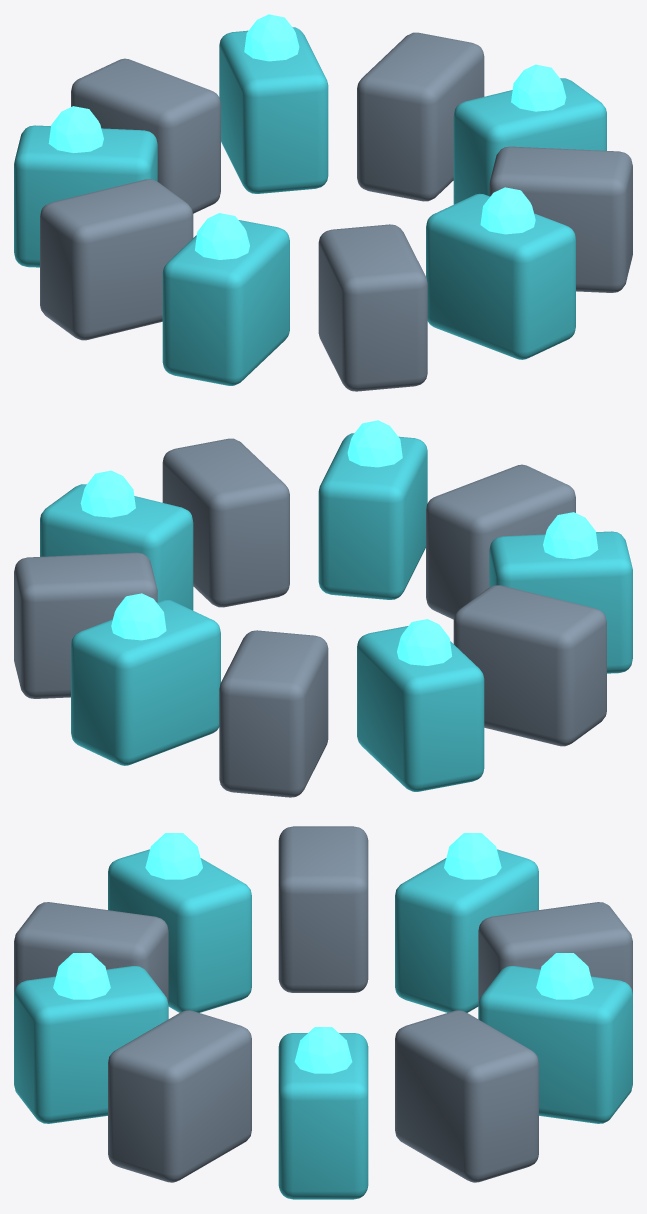
Rendered from bracelet_v6.glb.
3 views of the same model, one above another, from view 1: azimuth 30°, elevation 25°; view 2: azimuth 150°, elevation 25°; view 3: azimuth 270°, elevation 25° (orthographic). The views are drawn at different scales.
Visible parts, largest first — view 1: SEGMENT_ACCENT.004, SEGMENT_PRIMARY.002, SEGMENT_PRIMARY.003, SEGMENT_ACCENT.003, SEGMENT_PRIMARY, SEGMENT_ACCENT.001, SEGMENT_PRIMARY.004, SEGMENT_PRIMARY.001, SEGMENT_ACCENT.002, SEGMENT_ACCENT, SEGMENT_GEM_EMISSIVE.001, SEGMENT_GEM_EMISSIVE (+3 smaller); view 2: SEGMENT_ACCENT.001, SEGMENT_PRIMARY.002, SEGMENT_PRIMARY.001, SEGMENT_ACCENT.002, SEGMENT_PRIMARY.004, SEGMENT_ACCENT.004, SEGMENT_PRIMARY, SEGMENT_PRIMARY.003, SEGMENT_ACCENT.003, SEGMENT_ACCENT, SEGMENT_GEM_EMISSIVE.004, SEGMENT_GEM_EMISSIVE (+3 smaller); view 3: SEGMENT_PRIMARY, SEGMENT_PRIMARY.004, SEGMENT_ACCENT.001, SEGMENT_ACCENT.004, SEGMENT_PRIMARY.002, SEGMENT_ACCENT.002, SEGMENT_ACCENT.003, SEGMENT_ACCENT, SEGMENT_PRIMARY.001, SEGMENT_PRIMARY.003, SEGMENT_GEM_EMISSIVE.002, SEGMENT_GEM_EMISSIVE.003 (+3 smaller).
Boxes of the visible parts, x1=… form: SEGMENT_ACCENT.004: x1=426, y1=193, x2=575, y2=359; SEGMENT_PRIMARY.002: x1=40, y1=179, x2=193, y2=340; SEGMENT_PRIMARY.003: x1=318, y1=224, x2=427, y2=391; SEGMENT_ACCENT.003: x1=162, y1=220, x2=289, y2=385; SEGMENT_PRIMARY: x1=357, y1=32, x2=484, y2=201; SEGMENT_ACCENT.001: x1=219, y1=27, x2=328, y2=193; SEGMENT_PRIMARY.004: x1=489, y1=146, x2=632, y2=292; SEGMENT_PRIMARY.001: x1=71, y1=58, x2=220, y2=213; SEGMENT_ACCENT.002: x1=14, y1=125, x2=157, y2=267; SEGMENT_ACCENT: x1=453, y1=78, x2=606, y2=204; SEGMENT_GEM_EMISSIVE.001: x1=244, y1=14, x2=299, y2=61; SEGMENT_GEM_EMISSIVE: x1=511, y1=64, x2=566, y2=111; SEGMENT_ACCENT.001: x1=71, y1=599, x2=220, y2=765; SEGMENT_PRIMARY.002: x1=453, y1=585, x2=606, y2=746; SEGMENT_PRIMARY.001: x1=219, y1=630, x2=328, y2=797; SEGMENT_ACCENT.002: x1=357, y1=626, x2=484, y2=791; SEGMENT_PRIMARY.004: x1=162, y1=438, x2=289, y2=607; SEGMENT_ACCENT.004: x1=318, y1=433, x2=427, y2=599; SEGMENT_PRIMARY: x1=14, y1=552, x2=157, y2=698; SEGMENT_PRIMARY.003: x1=426, y1=464, x2=575, y2=619; SEGMENT_ACCENT.003: x1=489, y1=531, x2=632, y2=673; SEGMENT_ACCENT: x1=40, y1=484, x2=193, y2=610; SEGMENT_GEM_EMISSIVE.004: x1=347, y1=420, x2=402, y2=467; SEGMENT_GEM_EMISSIVE: x1=80, y1=470, x2=135, y2=517; SEGMENT_PRIMARY: x1=395, y1=1010, x2=538, y2=1182; SEGMENT_PRIMARY.004: x1=108, y1=1010, x2=251, y2=1182; SEGMENT_ACCENT.001: x1=478, y1=966, x2=632, y2=1123; SEGMENT_ACCENT.004: x1=14, y1=966, x2=168, y2=1123; SEGMENT_PRIMARY.002: x1=278, y1=826, x2=368, y2=992; SEGMENT_ACCENT.002: x1=395, y1=849, x2=538, y2=1012; SEGMENT_ACCENT.003: x1=108, y1=849, x2=251, y2=1012; SEGMENT_ACCENT: x1=278, y1=1033, x2=368, y2=1199; SEGMENT_PRIMARY.001: x1=478, y1=902, x2=632, y2=1004; SEGMENT_PRIMARY.003: x1=14, y1=902, x2=168, y2=1004; SEGMENT_GEM_EMISSIVE.002: x1=444, y1=833, x2=501, y2=879; SEGMENT_GEM_EMISSIVE.003: x1=145, y1=833, x2=202, y2=879.
Bounding box in the file's own units: 1.96 × 0.52 × 1.93.
